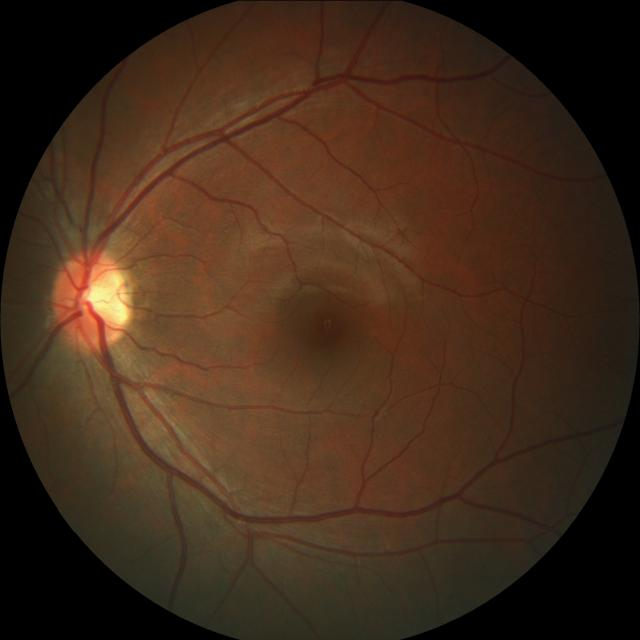OC: (75, 275, 121, 322)
OD: (55, 250, 135, 348)
